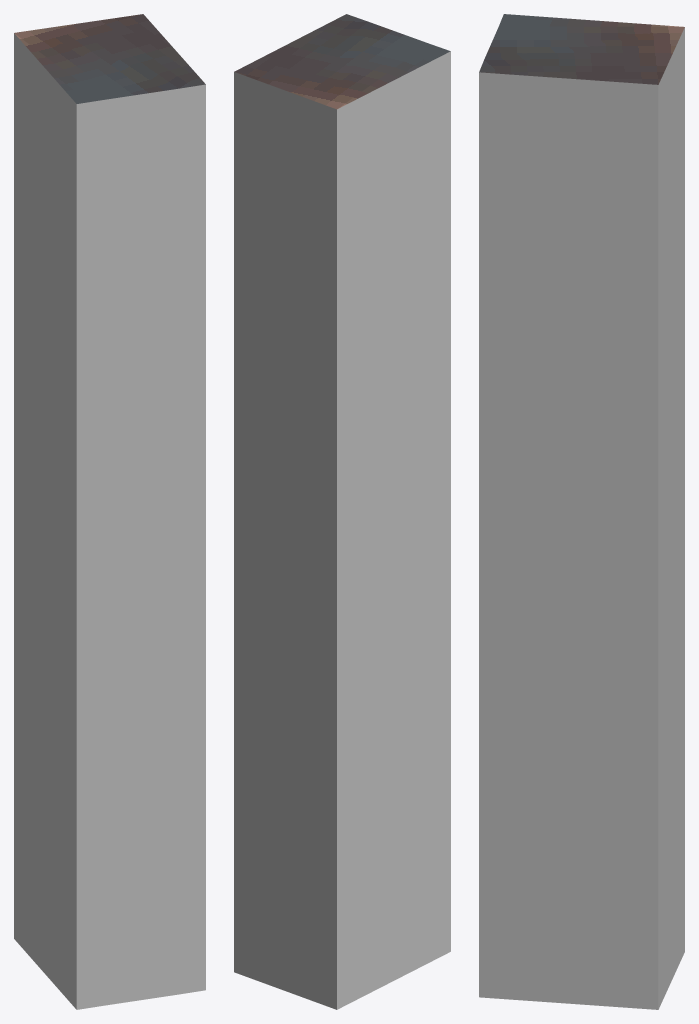
The model's file is DEBW_0010007THXs.gltf.
3 renders of one model, left to right at view 1: azimuth 30°, elevation 25°; view 2: azimuth 150°, elevation 25°; view 3: azimuth 270°, elevation 25°, orthographic. The views are drawn at different scales.
Parts seen in each view (by area): view 1: Z_UP; view 2: Z_UP; view 3: Z_UP.
Boxes of the visible parts, x1,y1,x2,y2 form: Z_UP: (14, 14, 205, 1009); Z_UP: (234, 14, 450, 1009); Z_UP: (479, 14, 684, 1009).
Size of the model in its own units: 2.03 by 12.34 by 2.49.
Materials: 2 (1 with a texture image).
